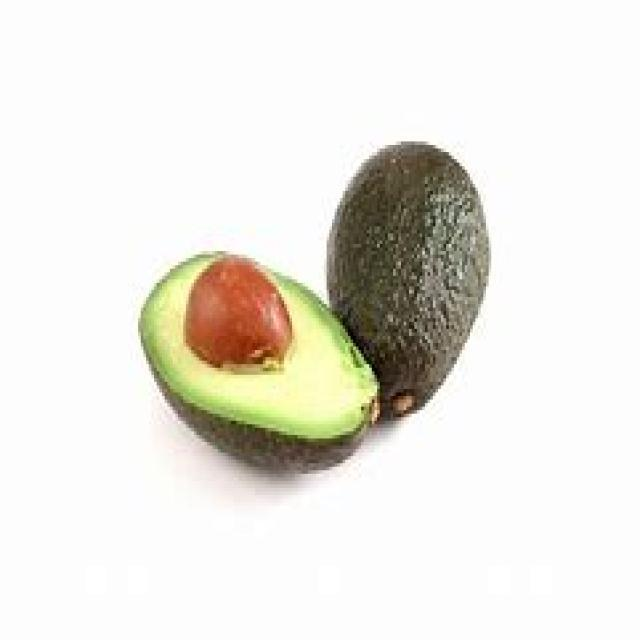avocado: (135, 249, 372, 466), (322, 137, 486, 418)
